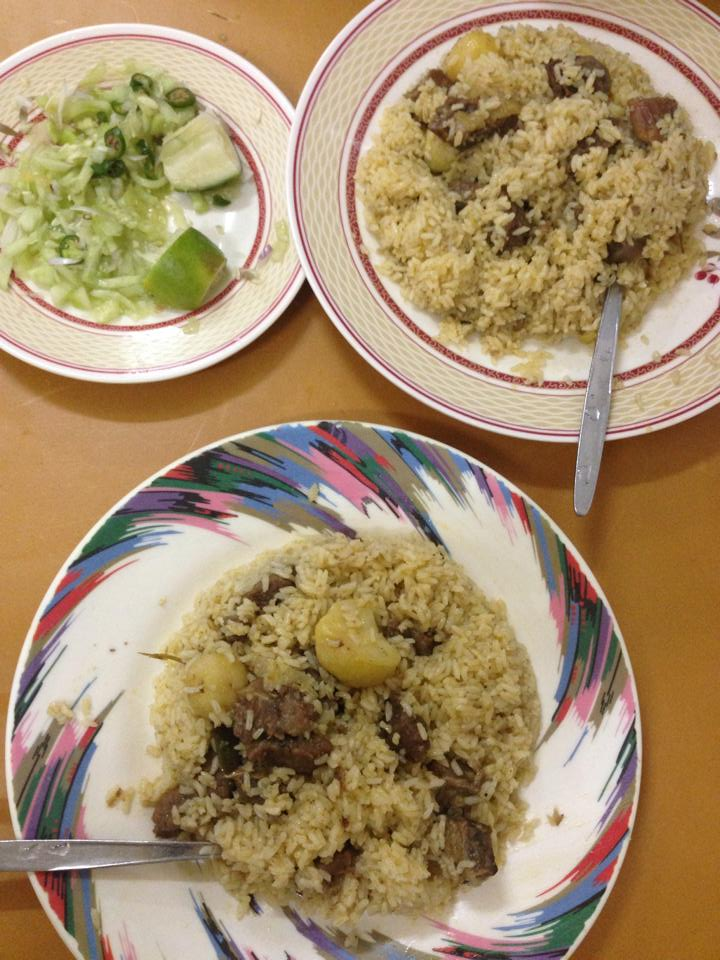tehari: (169, 523, 527, 917), (370, 21, 710, 342)
